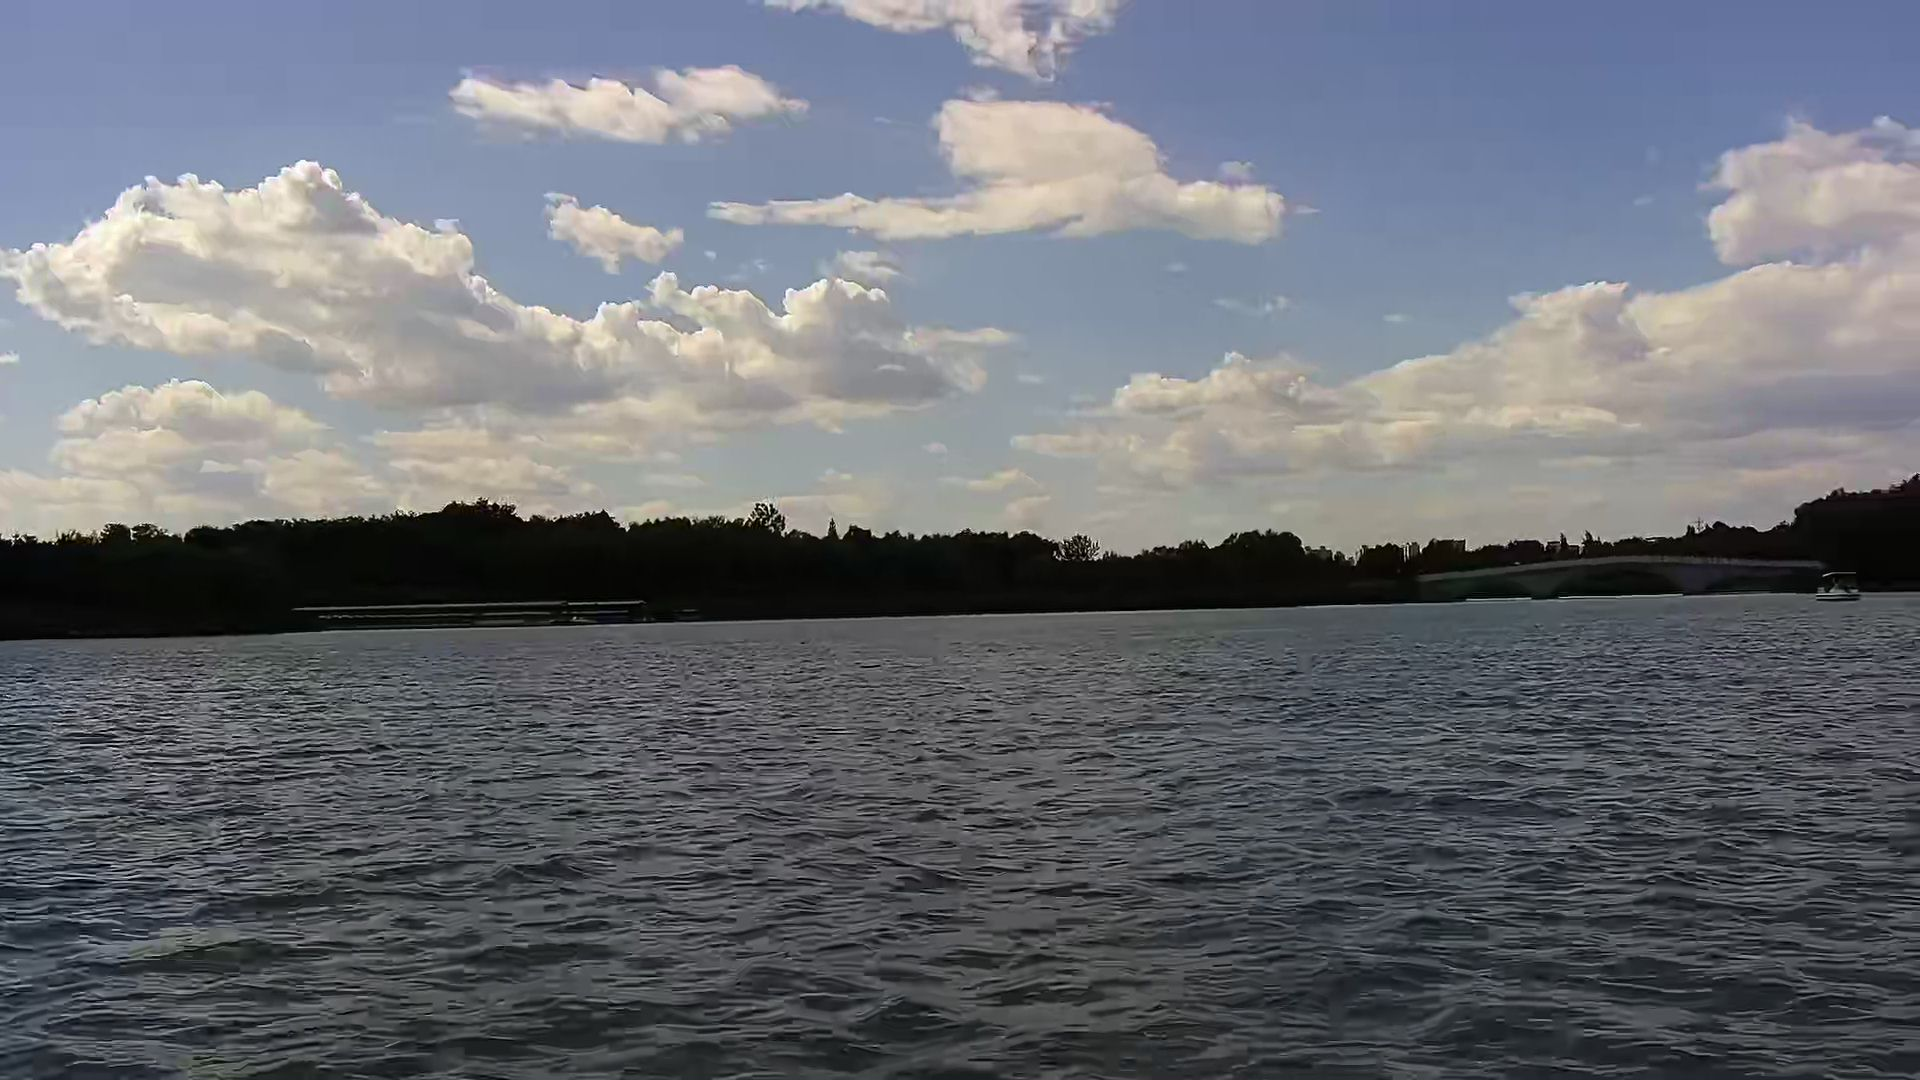boat: (1821, 574, 1862, 607)
bridge: (1415, 556, 1820, 603), (297, 601, 644, 632)
